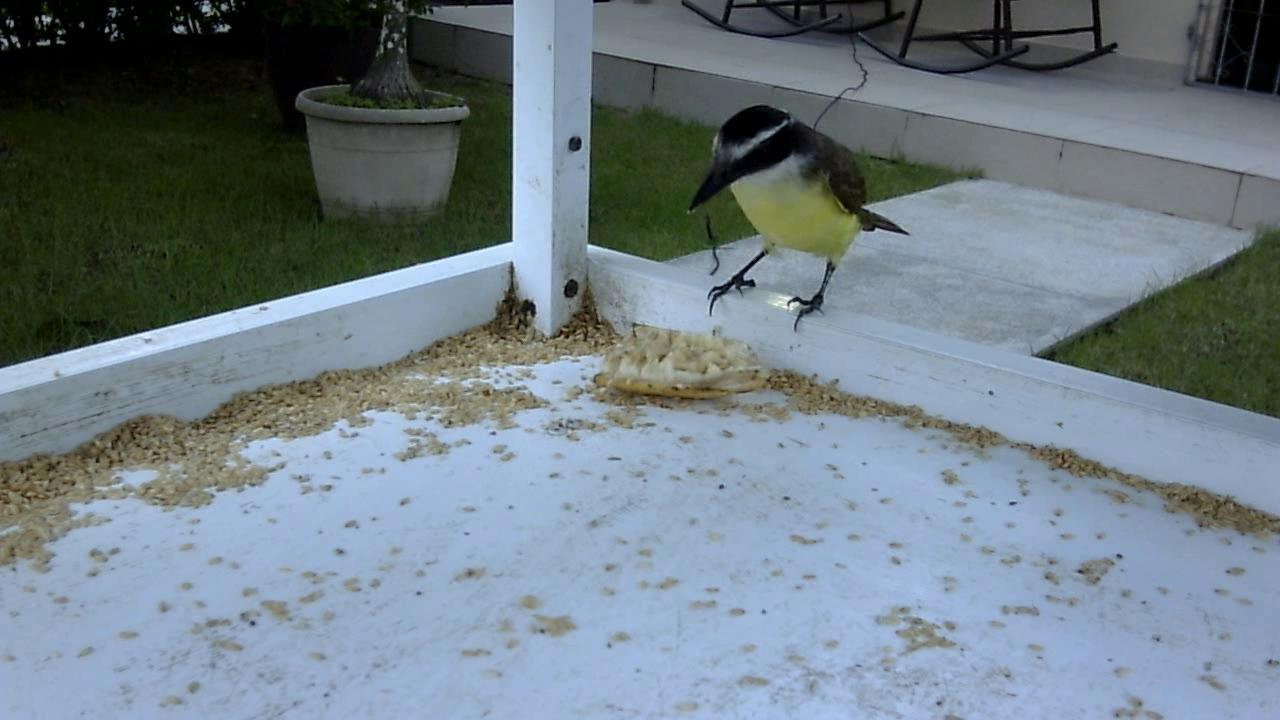bem_te_vi: (674, 83, 922, 346)
